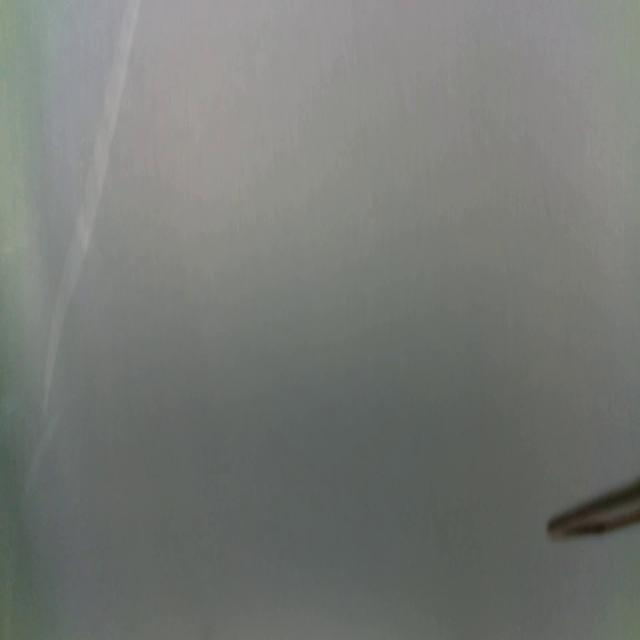crease: (43, 0, 144, 426)
